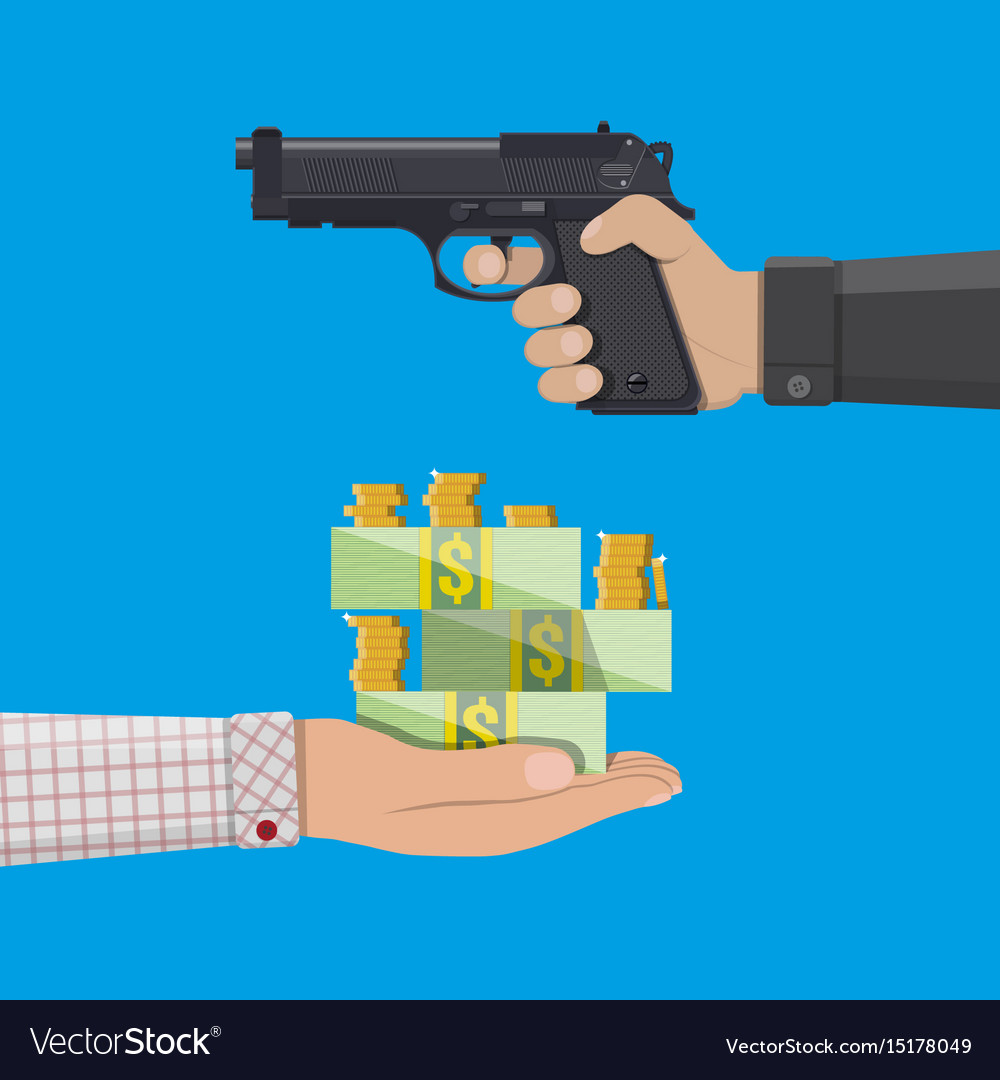pistol: (197, 77, 756, 476)
